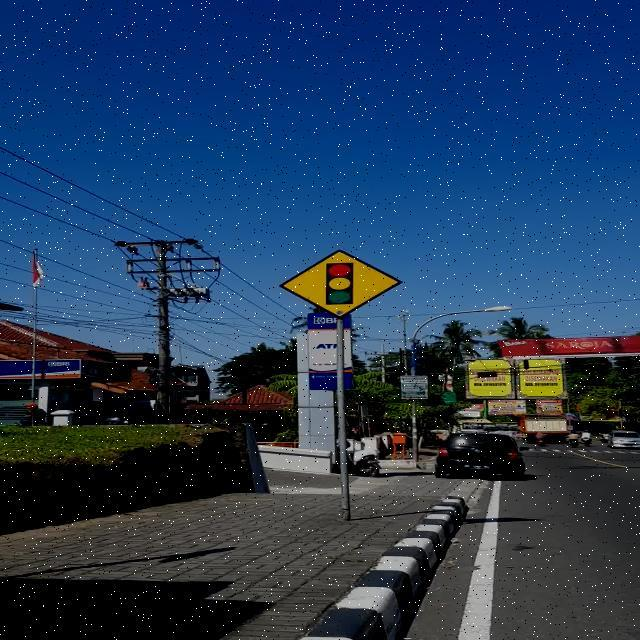Lampu Lalu Lintas: (280, 250, 403, 318)
